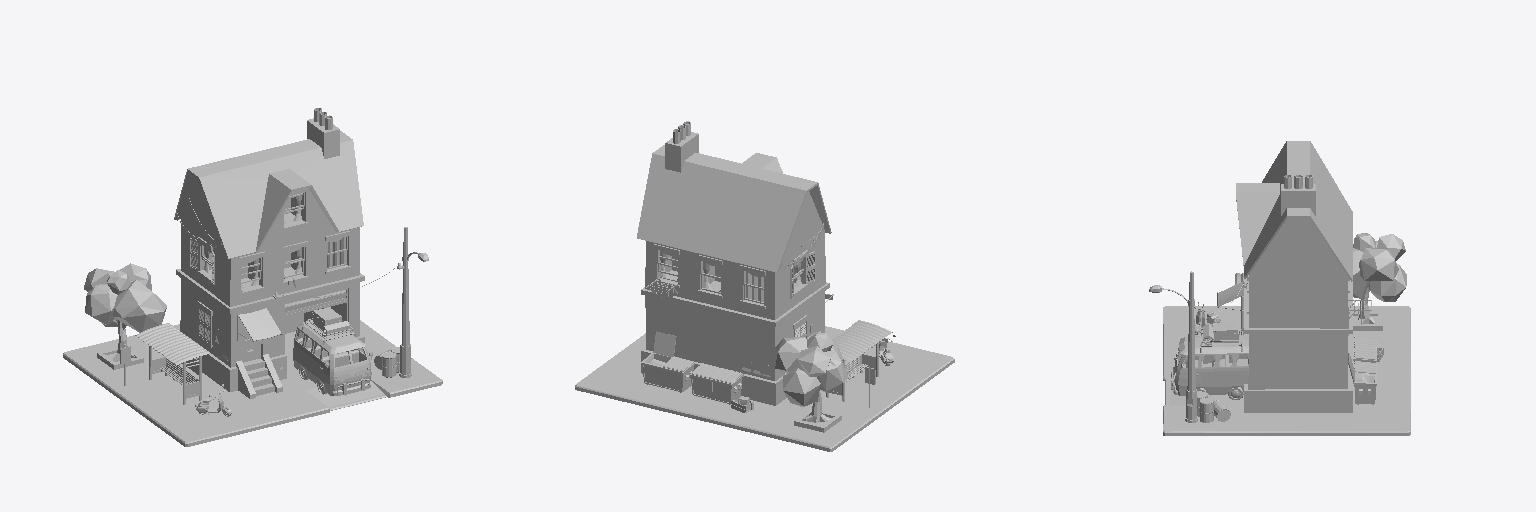
File: escena 2.obj
3 renders of one model, left to right at view 1: azimuth 30°, elevation 25°; view 2: azimuth 150°, elevation 25°; view 3: azimuth 270°, elevation 25°, orthographic.
Visible parts, largest first — view 1: House_Mesh.009, Sidewalk_Mesh.012, Kombi_Mesh.010, Tree_Mesh.014, BusStop_Mesh.006, LightPost_Mesh.011, Bricks_Mesh.031; view 2: House_Mesh.009, Sidewalk_Mesh.012, Graffiti_Mesh.026, Tree_Mesh.014, BusStop_Mesh.006, Garbage_open_Mesh.008, Garbage_closed_Mesh.019, Bricks_Mesh.031; view 3: House_Mesh.009, Sidewalk_Mesh.012, Graffiti_Mesh.026, Kombi_Mesh.010, Tree_Mesh.014, LightPost_Mesh.011, Garbage_open_Mesh.008, Bricks_Mesh.031, Garbage_closed_Mesh.019.
Part boxes in pixels (left/top/right/bottom): House_Mesh.009: left=174, top=108, right=364, bottom=398; Sidewalk_Mesh.012: left=63, top=320, right=442, bottom=446; Kombi_Mesh.010: left=293, top=307, right=372, bottom=395; Tree_Mesh.014: left=84, top=263, right=166, bottom=369; BusStop_Mesh.006: left=120, top=323, right=208, bottom=404; LightPost_Mesh.011: left=399, top=227, right=428, bottom=377; Bricks_Mesh.031: left=180, top=280, right=359, bottom=337; House_Mesh.009: left=637, top=121, right=833, bottom=405; Sidewalk_Mesh.012: left=575, top=326, right=954, bottom=451; Graffiti_Mesh.026: left=645, top=296, right=768, bottom=368; Tree_Mesh.014: left=775, top=332, right=848, bottom=432; BusStop_Mesh.006: left=826, top=320, right=892, bottom=407; Garbage_open_Mesh.008: left=641, top=331, right=694, bottom=392; Garbage_closed_Mesh.019: left=690, top=363, right=743, bottom=404; Bricks_Mesh.031: left=645, top=256, right=825, bottom=380; House_Mesh.009: left=1217, top=141, right=1352, bottom=412; Sidewalk_Mesh.012: left=1163, top=306, right=1410, bottom=435; Graffiti_Mesh.026: left=1253, top=253, right=1343, bottom=388; Kombi_Mesh.010: left=1171, top=322, right=1248, bottom=399; Tree_Mesh.014: left=1353, top=233, right=1406, bottom=330; LightPost_Mesh.011: left=1149, top=271, right=1197, bottom=422; Garbage_open_Mesh.008: left=1348, top=353, right=1376, bottom=404; Bricks_Mesh.031: left=1248, top=307, right=1348, bottom=389; Garbage_closed_Mesh.019: left=1353, top=337, right=1376, bottom=362.
Bounding box in the file's own units: 6 × 5.21 × 5.27.